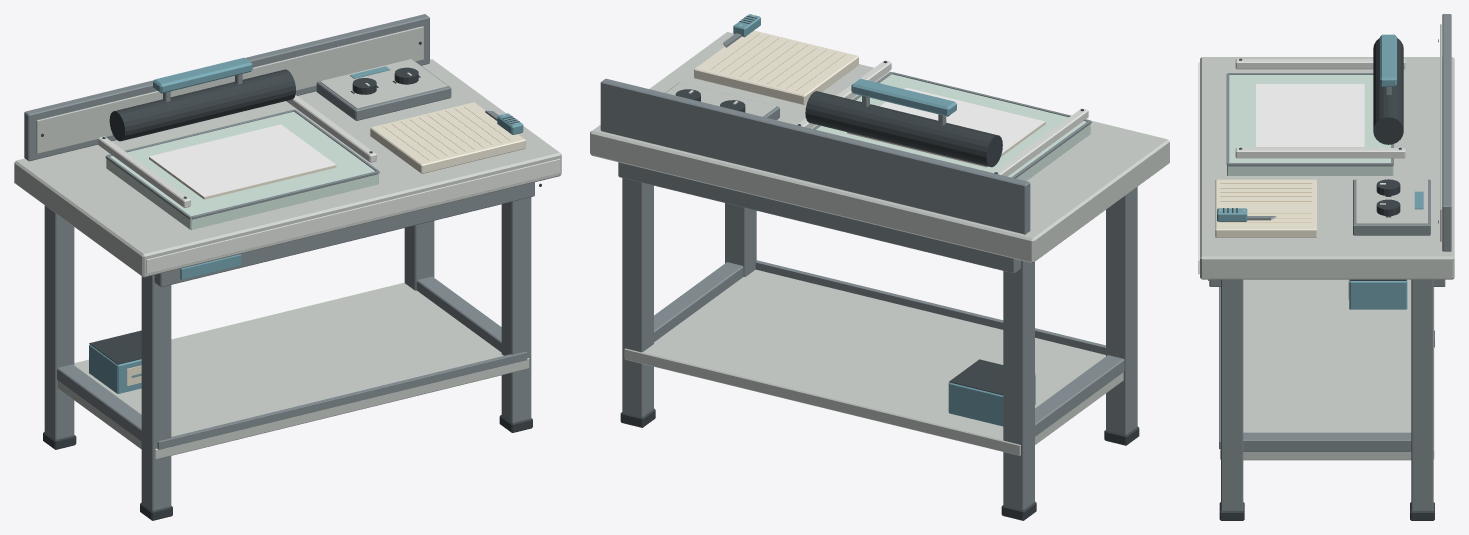
The model's file is Bench.fbx.
The picture shows the model from 3 angles, left to right: view 1: azimuth 30°, elevation 25°; view 2: azimuth 150°, elevation 25°; view 3: azimuth 270°, elevation 25°; orthographic projection. The views are drawn at different scales.
Visible parts, largest first — view 1: StaticDetails, WorkbenchTop, ArtworkSurface, CutterBase, Roller, InkCartridge, RollerHandle, Paper; view 2: StaticDetails, WorkbenchTop, CutterBase, Roller, InkCartridge, ArtworkSurface, RollerHandle; view 3: StaticDetails, WorkbenchTop, ArtworkSurface, CutterBase, Roller, InkCartridge, RollerHandle, CutterGrip.
Part boxes in pixels (x1,y1,x2,y2): StaticDetails: (24, 14, 560, 520); WorkbenchTop: (14, 59, 561, 277); ArtworkSurface: (149, 124, 335, 196); CutterBase: (370, 102, 525, 173); Roller: (109, 69, 295, 141); InkCartridge: (89, 330, 141, 393); RollerHandle: (153, 57, 252, 101); Paper: (149, 156, 336, 199); StaticDetails: (600, 33, 1139, 520); WorkbenchTop: (590, 32, 1169, 263); CutterBase: (694, 30, 858, 104); Roller: (805, 91, 1002, 167); InkCartridge: (948, 359, 1035, 426); ArtworkSurface: (880, 87, 1044, 152); RollerHandle: (851, 78, 956, 125); StaticDetails: (1198, 14, 1451, 520); WorkbenchTop: (1200, 57, 1454, 279); ArtworkSurface: (1256, 84, 1364, 147); CutterBase: (1215, 179, 1316, 237); Roller: (1373, 38, 1403, 144); InkCartridge: (1348, 279, 1407, 309); RollerHandle: (1380, 34, 1396, 94); CutterGrip: (1217, 208, 1247, 221).
Size of the model in its own units: 140 by 113 by 75.5.
